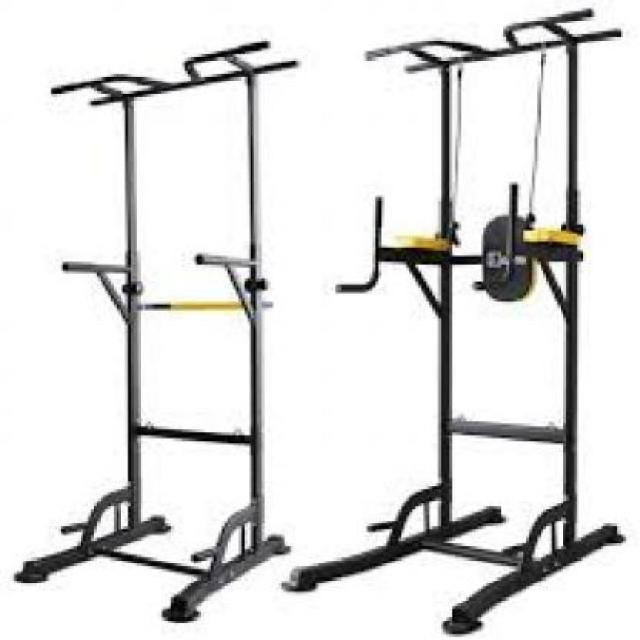chinning dipping: (14, 39, 298, 623)
